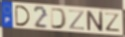2: (32, 5, 50, 30)
D: (14, 5, 32, 28), (50, 7, 68, 30)
N: (85, 10, 105, 33)
Z: (103, 12, 121, 33), (69, 9, 85, 31)
